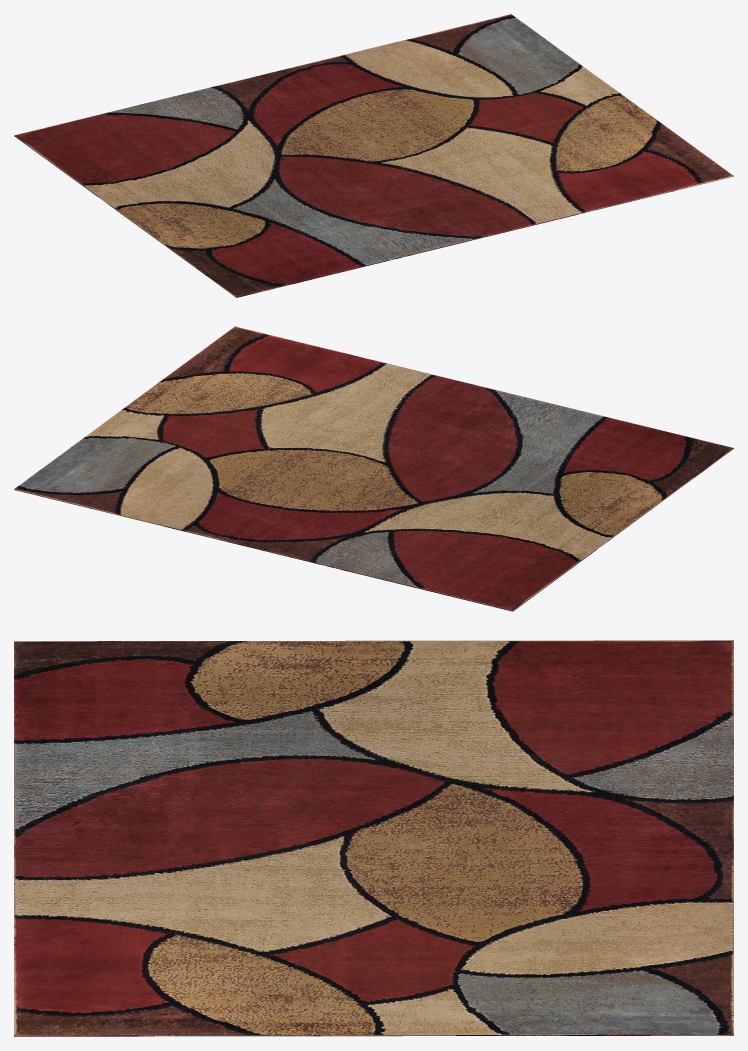
Rendered from halı.dae.
3 renders of one model, top to bottom at view 1: azimuth 30°, elevation 25°; view 2: azimuth 150°, elevation 25°; view 3: azimuth 270°, elevation 25°, orthographic. The views are drawn at different scales.
Visible parts, largest first — view 1: group_0; view 2: group_0; view 3: group_0.
Part boxes in pixels (left/top/right/bottom): group_0: left=14, top=14, right=733, bottom=297; group_0: left=14, top=326, right=733, bottom=611; group_0: left=14, top=640, right=733, bottom=1036.
Bounding box in the file's own units: 311 × 239 × 0.3937.
Materials: 1 (1 with a texture image).
